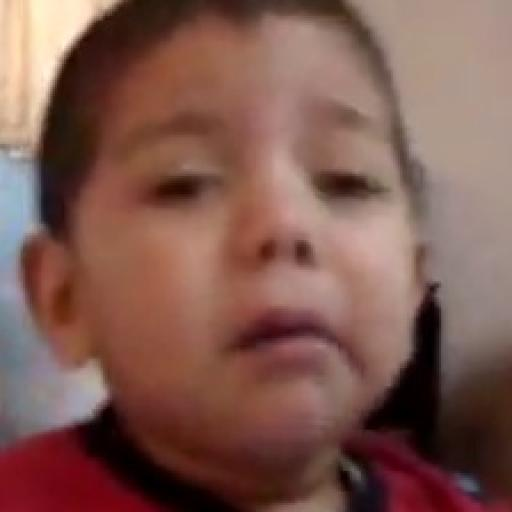Autism: (61, 48, 406, 420)
